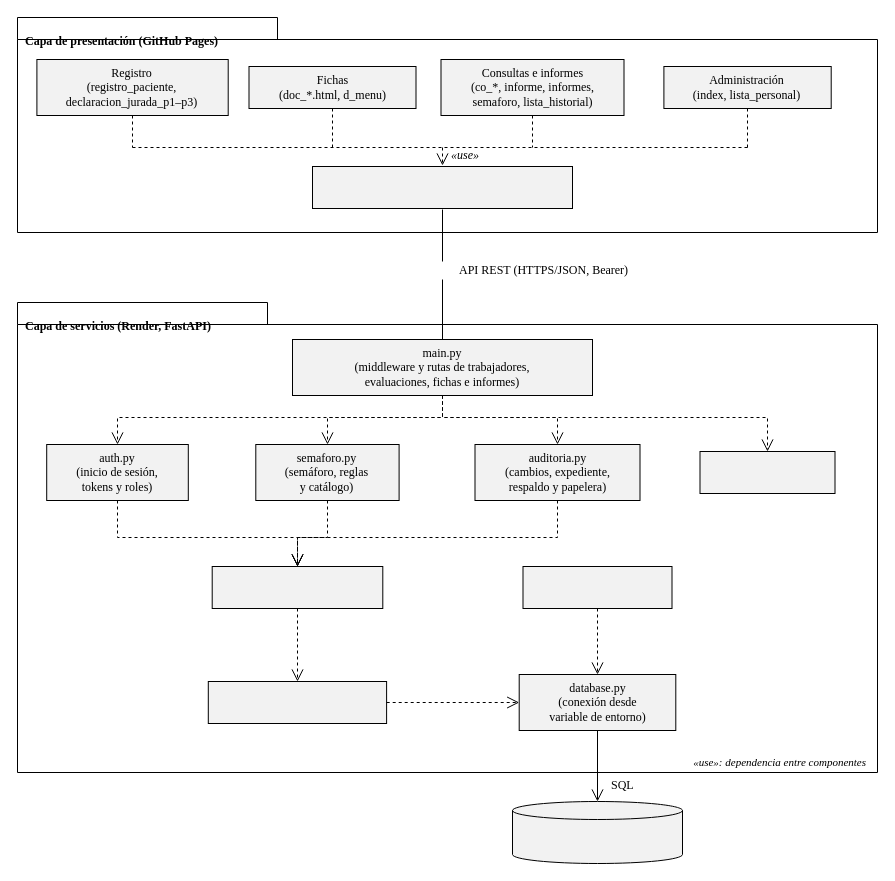
Some shapes in this 895 by 881 pixel diagram are drawn without their labels. Each missing label, with the centre of its shape:
"config.js (sesión, token, cabeceras y permisos)" belongs at pixel 442 187.
"crud.py (operaciones y autoría)" belongs at pixel 297 587.
"demo.py (datos ficticios)" belongs at pixel 767 472.
"migraciones.py (cambios aditivos)" belongs at pixel 597 587.
"models.py (modelos SQLAlchemy)" belongs at pixel 297 702.
"PostgreSQL (Render) 21 tablas" belongs at pixel 597 832.
